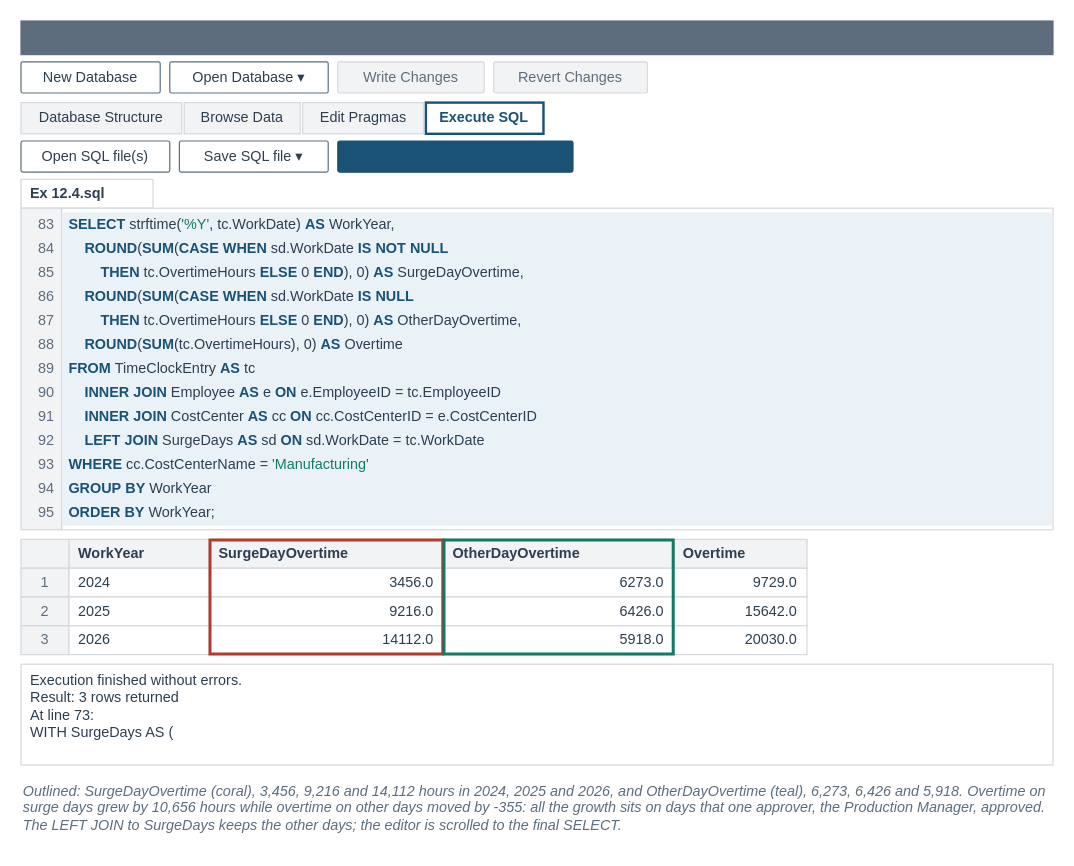
Image size: 1074x866. Some labels were removed from this diagram. The centre of each missing label's shape, as x and y in pixels:
DB Browser for SQLite - C:\Users\you\Documents\CharlesRiver_Work.sqlite: the point at 536,37
▶ Execute all/selected SQL: the point at 455,156
